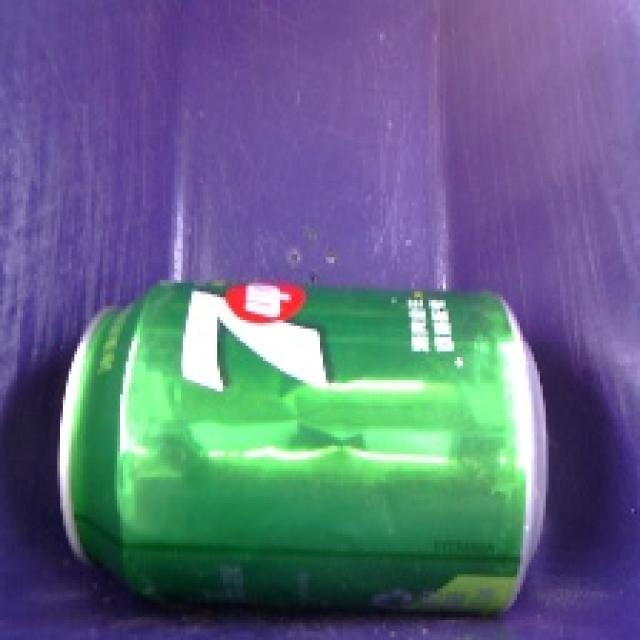metal: (25, 260, 573, 634)
